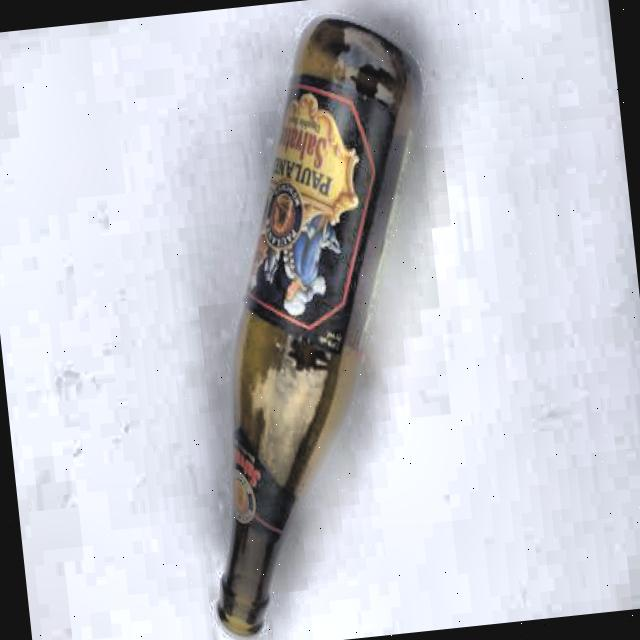glass: (158, 2, 477, 640)
